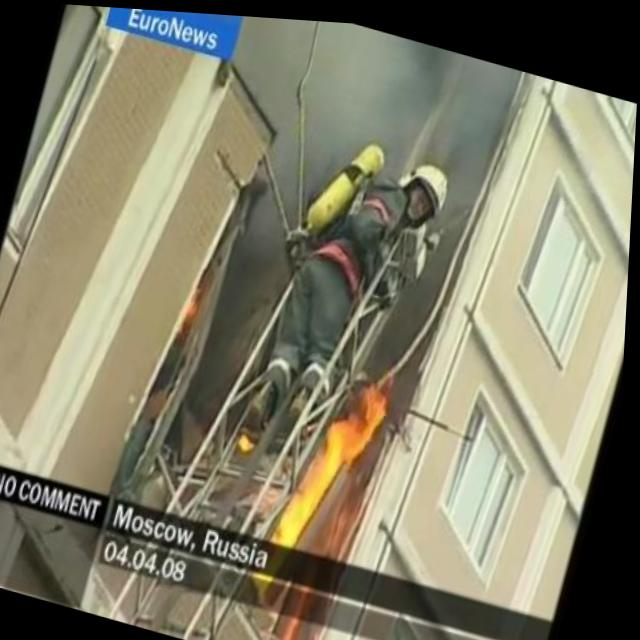fire: (281, 357, 401, 563), (182, 273, 209, 332), (239, 422, 262, 449)
